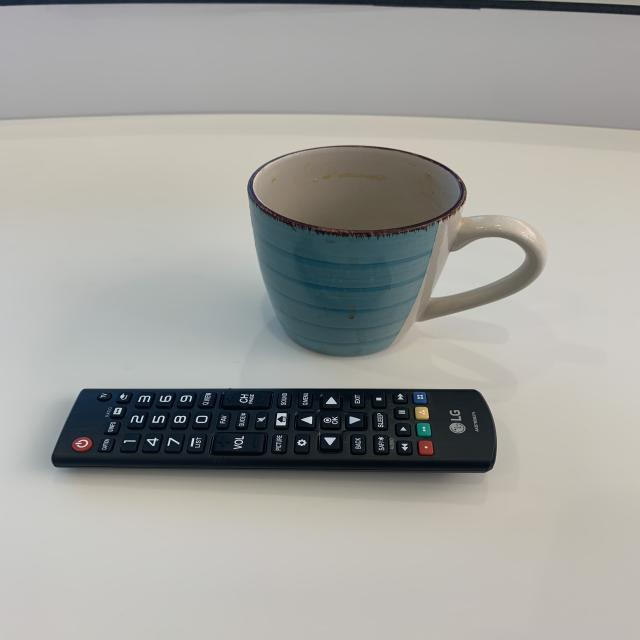Cup: (243, 143, 550, 359)
